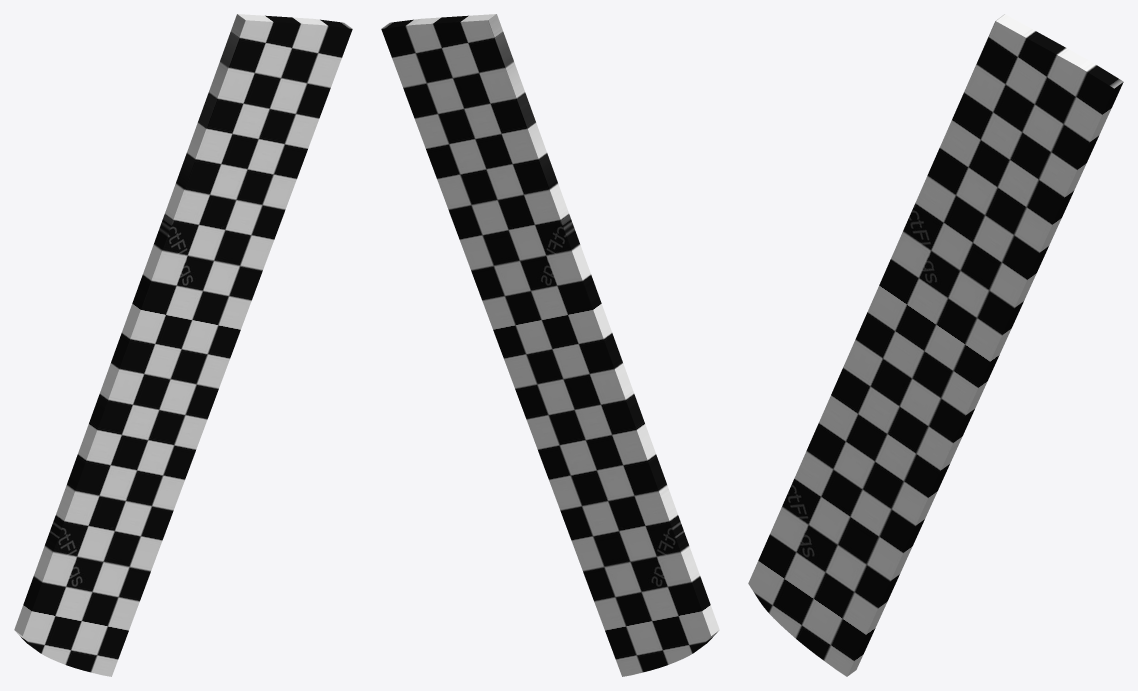
The model's file is finish_line.obj.
3 renders of one model, left to right at view 1: azimuth 30°, elevation 25°; view 2: azimuth 150°, elevation 25°; view 3: azimuth 330°, elevation 25°, orthographic. The views are drawn at different scales.
Parts seen in each view (by area): view 1: Finish_Plane.002; view 2: Finish_Plane.002; view 3: Finish_Plane.002.
Part boxes in pixels (x1=…): Finish_Plane.002: x1=14, y1=14, x2=352, y2=676; Finish_Plane.002: x1=381, y1=14, x2=719, y2=676; Finish_Plane.002: x1=748, y1=14, x2=1123, y2=676.
Bounding box in the file's own units: 1.12 × 2.02 × 0.05.
1 material, 1 textured.
